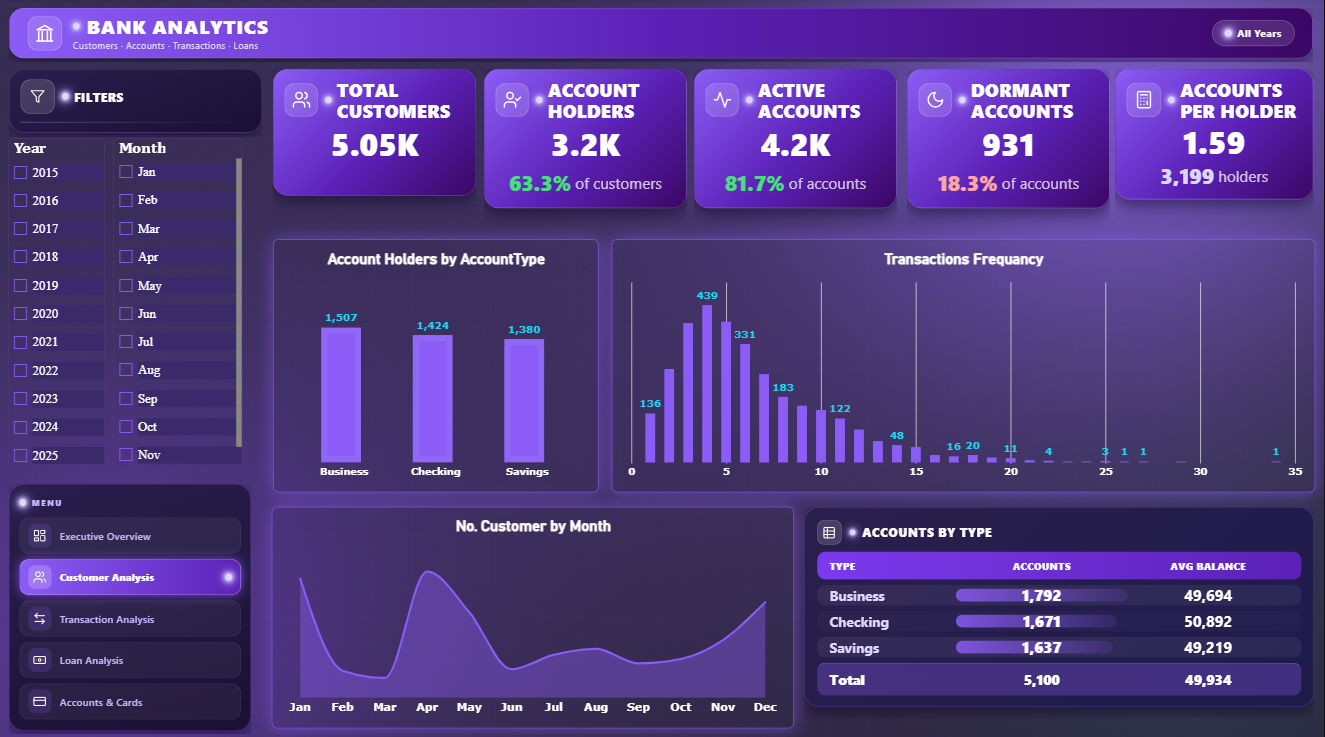

The page's visual inventory and layout, read from the dashboard file:
{"tool":"powerbi","page":{"name":"Customer Analysis","canvas":[1920,1080],"ordinal":1},"visuals":[{"type":"htmlContent443BE3AD55E043BF878BED274D3A6855","fields":{"content":["HTML.Header Bank Analytics"]},"box":[0,0,1920,108.2],"z":0},{"type":"htmlContent443BE3AD55E043BF878BED274D3A6855","fields":{"content":["HTML.Panel Filters"]},"box":[0,88.7,398.1,127.4],"z":1000},{"type":"htmlContent443BE3AD55E043BF878BED274D3A6855","fields":{"content":["HTML.Nav Menu 2"]},"box":[0,688.7,382.2,391.3],"z":2000},{"type":"slicer","fields":{"Values":["Calender.Year"]},"box":[15.2,202.8,140.3,485.1],"z":3000},{"type":"actionButton","box":[32.1,802.8,321.1,60.8],"z":4000},{"type":"actionButton","box":[33.8,755.5,319.4,47.3],"z":5000},{"type":"actionButton","box":[33.8,875.5,319.4,47.3],"z":6000},{"type":"actionButton","box":[32.1,938,321.1,47.3],"z":7000},{"type":"actionButton","box":[33.8,997.2,319.4,47.3],"z":8000},{"type":"slicer","fields":{"Values":["Calender.Month"]},"box":[166.7,203.2,187.2,484],"z":9000},{"type":"htmlContent443BE3AD55E043BF878BED274D3A6855","fields":{"content":["HTML.Card Customers"]},"box":[382.2,88.7,325.3,259.3],"z":11000},{"type":"htmlContent443BE3AD55E043BF878BED274D3A6855","fields":{"content":["HTML 2.Card Account Holders"]},"box":[687,88.7,325,259.3],"z":12000},{"type":"htmlContent443BE3AD55E043BF878BED274D3A6855","fields":{"content":["HTML 2.Card Active Account"]},"box":[991.8,88.7,325,259.3],"z":13000},{"type":"htmlContent443BE3AD55E043BF878BED274D3A6855","fields":{"content":["HTML 2.Card Dormant Account"]},"box":[1299,88.7,325,259.3],"z":14000},{"type":"htmlContent443BE3AD55E043BF878BED274D3A6855","fields":{"content":["HTML 2.Card Avg Accounts per Customer"]},"box":[1601.5,88.7,319,259],"z":15000},{"type":"clusteredColumnChart","fields":{"Category":["Accounts.AccountType"],"Y":["Calc Customer Analysis.Account Holders"]},"box":[398.6,348.5,471.5,366.7],"z":16000},{"type":"clusteredColumnChart","title":"Transactions Frequancy","fields":{"Category":["customers.Number Transactions"],"Y":["Calc Executive Overview.No. Customer"]},"box":[888.3,348.5,1018.1,366.7],"z":17000},{"type":"lineChart","fields":{"Category":["Calender.Month"],"Y":["Calc Executive Overview.No. Customer"]},"box":[396.3,735.7,756.2,321.1],"z":18000},{"type":"htmlContent443BE3AD55E043BF878BED274D3A6855","fields":{"content":["HTML 2.Table Accounts by Type"]},"box":[1150.1,721.5,769.9,335.5],"z":19000}]}

Visuals, with their boxes in screenshot pixels (x1, y1, x2, y2), scaled from the page's 1920x1080 canvas onto the 1325x737 screenshot:
htmlContent443BE3AD55E043BF878BED274D3A6855 - HTML.Header Bank Analytics: <bbox>0, 0, 1324, 74</bbox>
htmlContent443BE3AD55E043BF878BED274D3A6855 - HTML.Panel Filters: <bbox>0, 61, 275, 147</bbox>
htmlContent443BE3AD55E043BF878BED274D3A6855 - HTML.Nav Menu 2: <bbox>0, 470, 264, 736</bbox>
slicer - Calender.Year: <bbox>10, 138, 107, 469</bbox>
actionButton: <bbox>22, 548, 244, 589</bbox>
actionButton: <bbox>23, 516, 244, 548</bbox>
actionButton: <bbox>23, 597, 244, 630</bbox>
actionButton: <bbox>22, 640, 244, 672</bbox>
actionButton: <bbox>23, 680, 244, 713</bbox>
slicer - Calender.Month: <bbox>115, 139, 244, 469</bbox>
htmlContent443BE3AD55E043BF878BED274D3A6855 - HTML.Card Customers: <bbox>264, 61, 488, 237</bbox>
htmlContent443BE3AD55E043BF878BED274D3A6855 - HTML 2.Card Account Holders: <bbox>474, 61, 698, 237</bbox>
htmlContent443BE3AD55E043BF878BED274D3A6855 - HTML 2.Card Active Account: <bbox>684, 61, 909, 237</bbox>
htmlContent443BE3AD55E043BF878BED274D3A6855 - HTML 2.Card Dormant Account: <bbox>896, 61, 1121, 237</bbox>
htmlContent443BE3AD55E043BF878BED274D3A6855 - HTML 2.Card Avg Accounts per Customer: <bbox>1105, 61, 1324, 237</bbox>
clusteredColumnChart - Accounts.AccountType x Calc Customer Analysis.Account Holders: <bbox>275, 238, 600, 488</bbox>
"Transactions Frequancy" clusteredColumnChart: <bbox>613, 238, 1316, 488</bbox>
lineChart - Calender.Month x Calc Executive Overview.No. Customer: <bbox>273, 502, 795, 721</bbox>
htmlContent443BE3AD55E043BF878BED274D3A6855 - HTML 2.Table Accounts by Type: <bbox>794, 492, 1324, 721</bbox>
